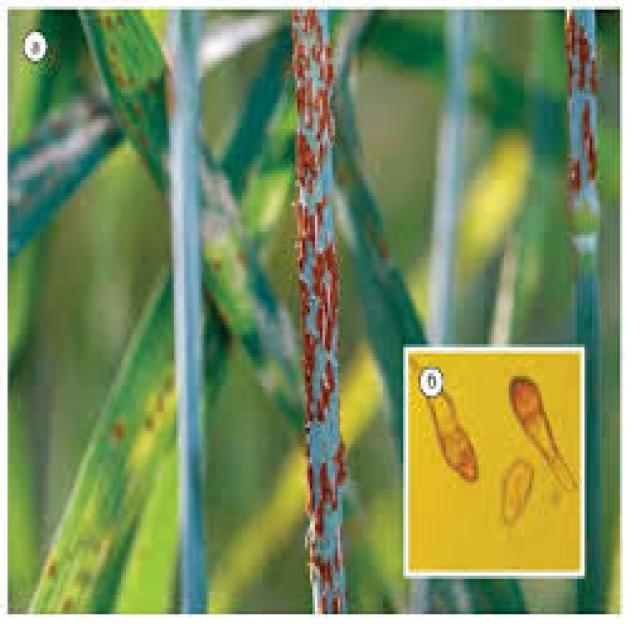wheat-stemrust: (293, 10, 345, 615), (563, 9, 599, 349)
